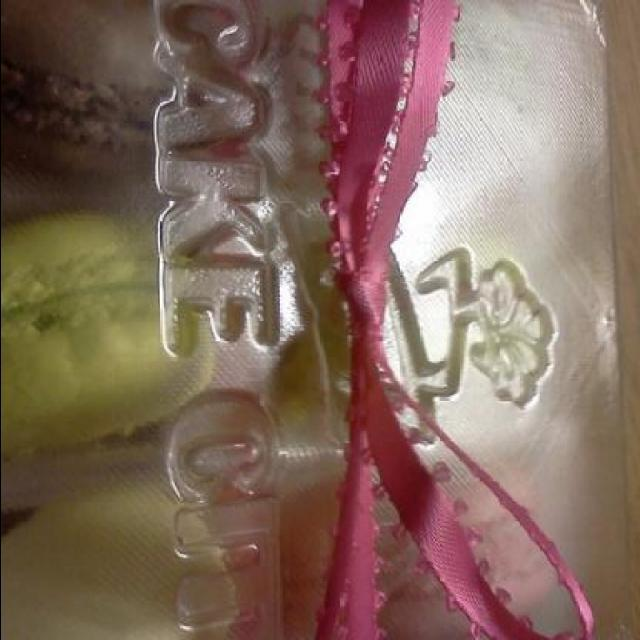Macaron: (2, 6, 224, 638)
